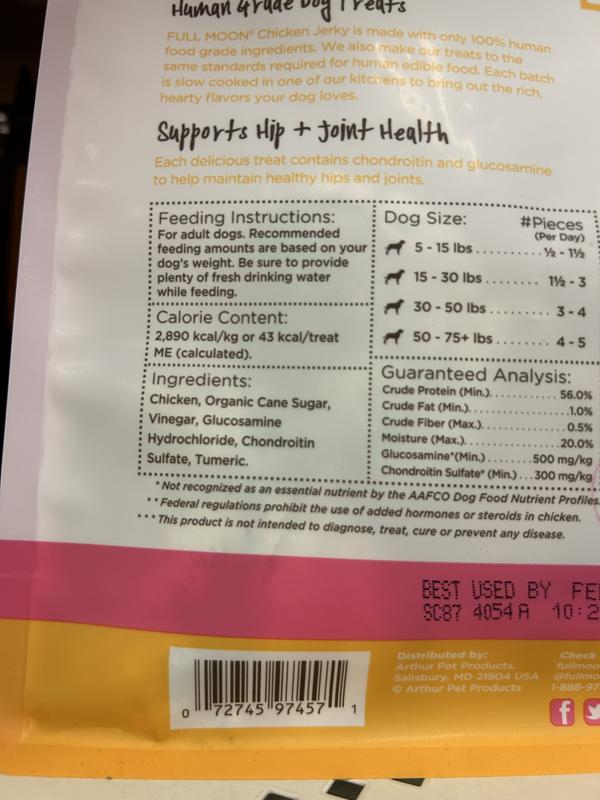ingredients: (145, 370, 332, 470)
